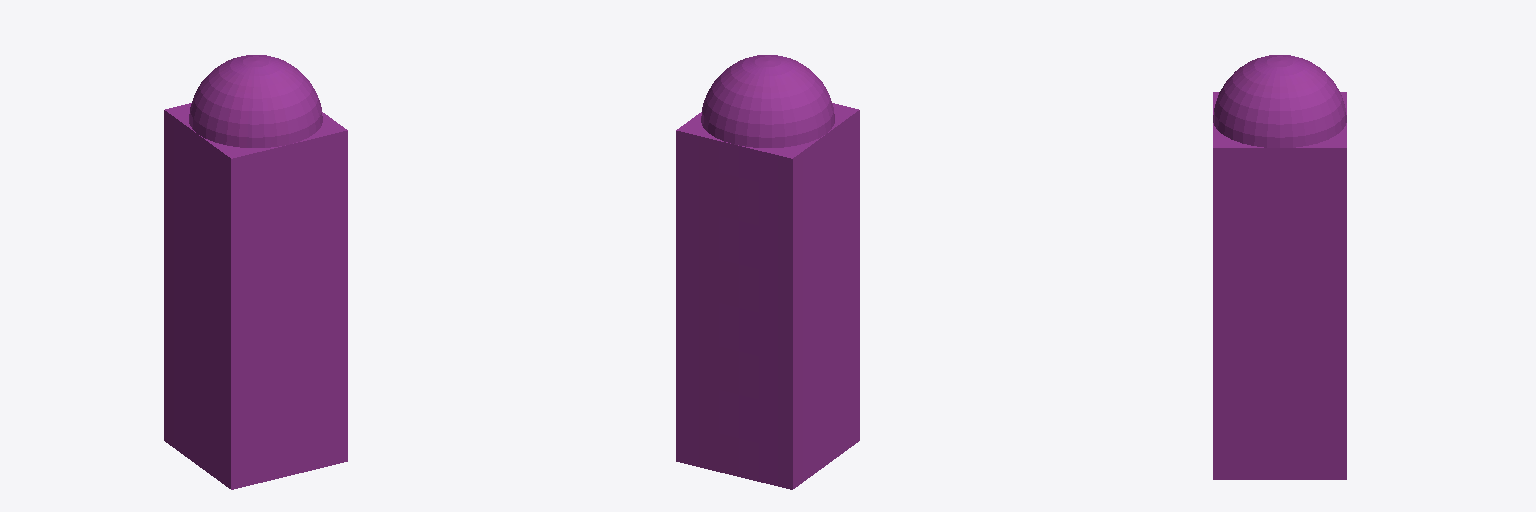
3 views of the same model, side by side, from view 1: azimuth 30°, elevation 25°; view 2: azimuth 150°, elevation 25°; view 3: azimuth 270°, elevation 25° (orthographic).
Parts seen in each view (by area): view 1: 立方體.011, 球體.008_球體.001; view 2: 立方體.011, 球體.008_球體.001; view 3: 立方體.011, 球體.008_球體.001.
Boxes of the visible parts, x1,y1,x2,y2 form: 立方體.011: [164, 103, 347, 489]; 球體.008_球體.001: [189, 55, 322, 147]; 立方體.011: [676, 103, 859, 489]; 球體.008_球體.001: [701, 55, 834, 147]; 立方體.011: [1213, 92, 1346, 479]; 球體.008_球體.001: [1213, 55, 1346, 147].
Size of the model in its own units: 0.5804 by 1.86 by 0.5804.
2 materials, 1 textured.